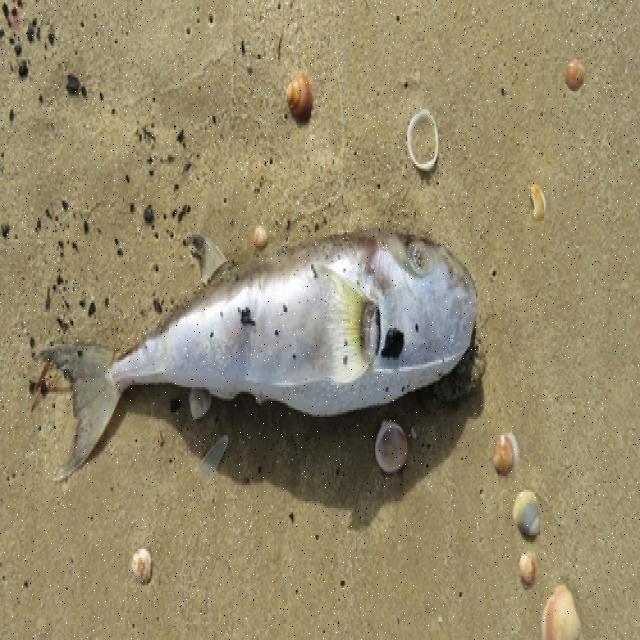Balik: (40, 233, 476, 478)
